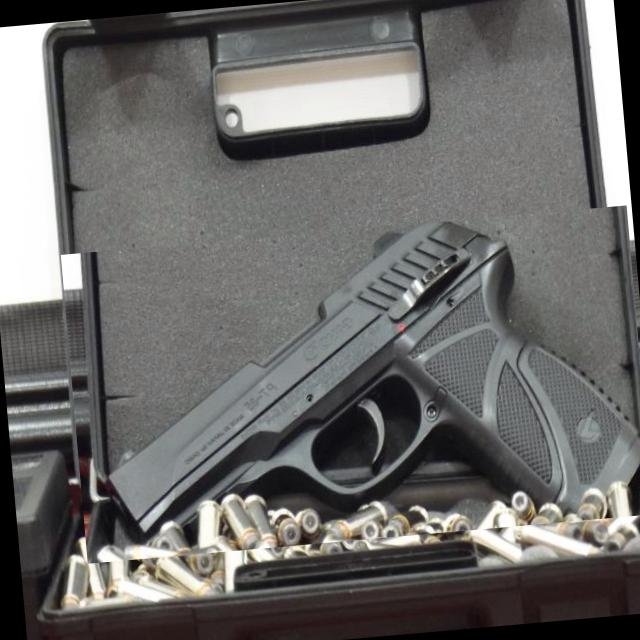Gun: (86, 221, 640, 563)
